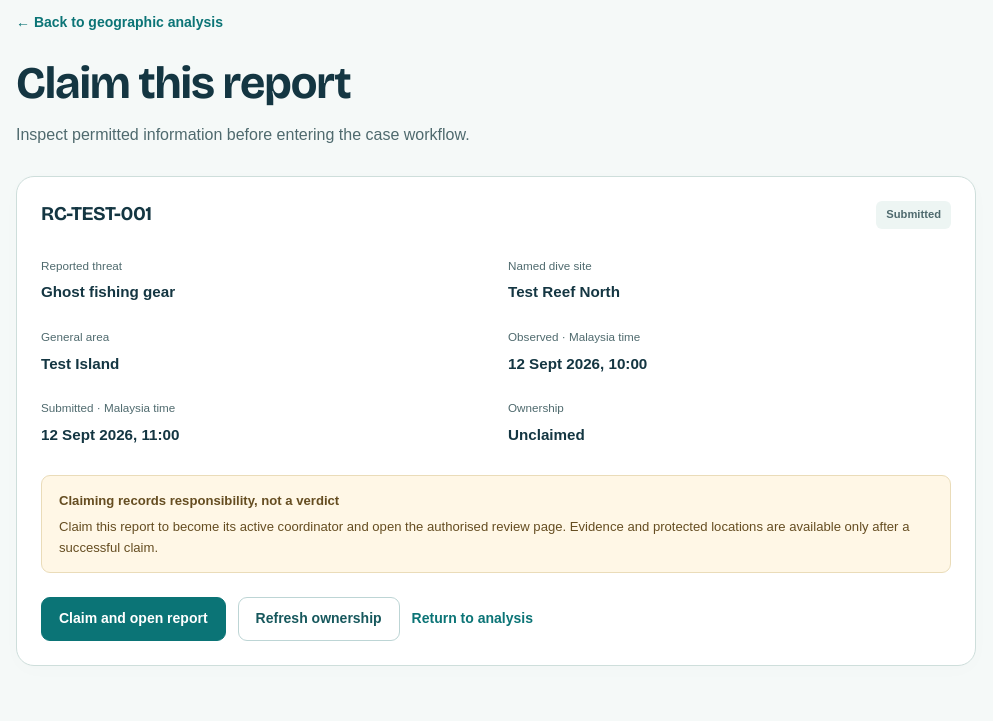
Test: refreshes the permitted summary after an atomic claim conflict
Click the button "Claim and open report".
click(133, 619)  # box [41,597,226,641]
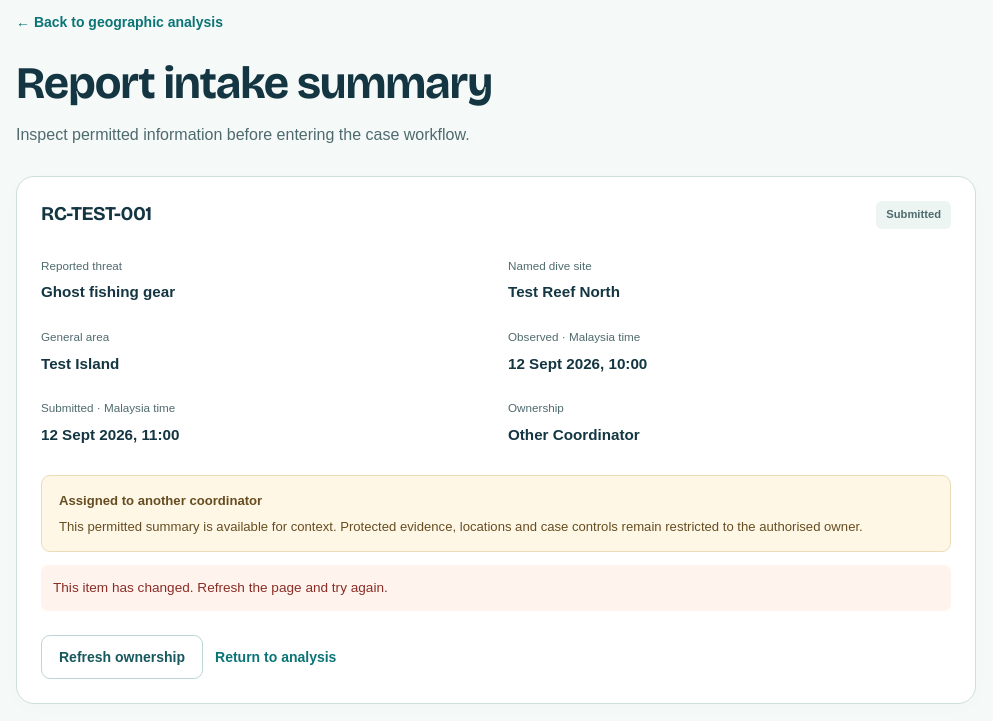
Check: the text "Assigned to another coordinator" is shown, box [59,493,262,508]
Check: the button "Claim and open report" is gone
